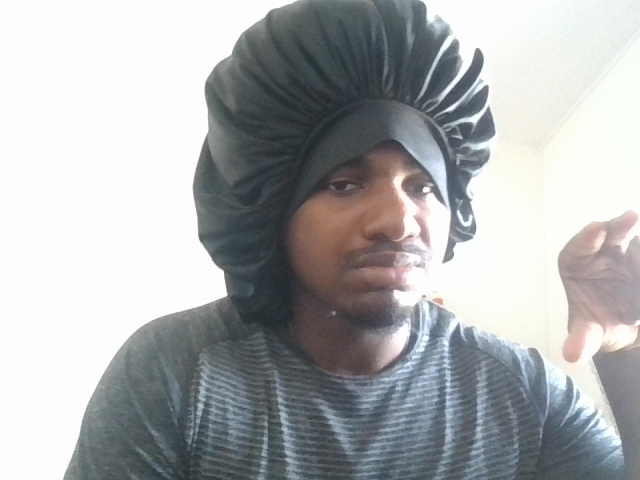No: (537, 195, 640, 364)
